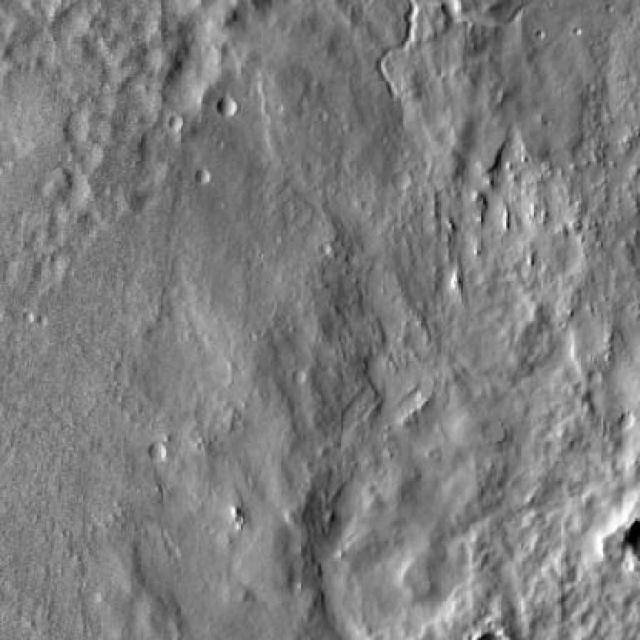crater: (73, 114, 99, 140), (440, 0, 469, 23), (227, 98, 247, 118), (397, 170, 415, 188), (152, 438, 168, 454), (199, 164, 215, 179)
